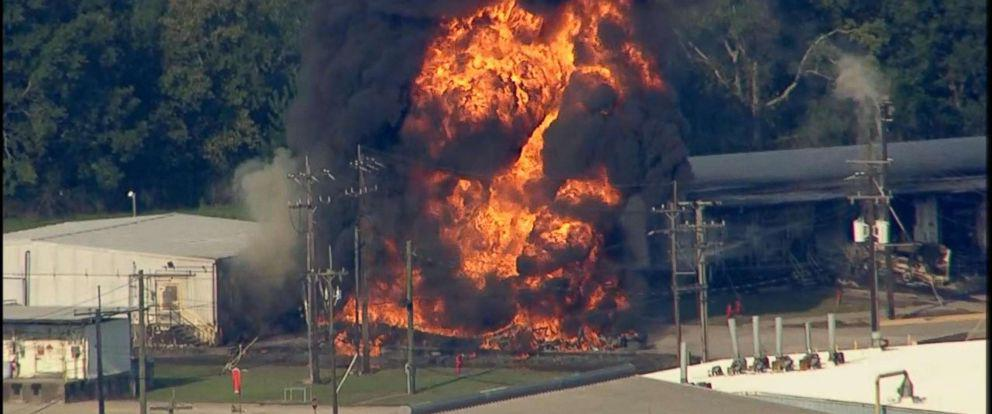fire: (331, 9, 682, 380)
